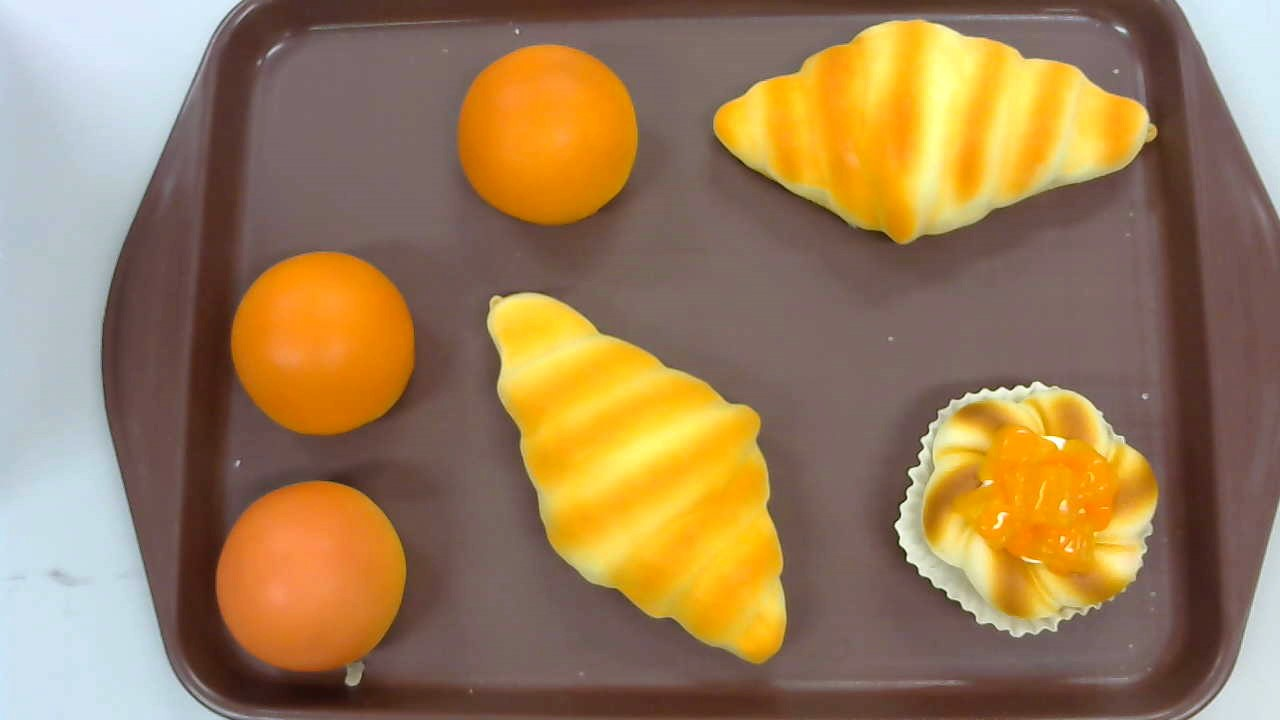bun: (216, 479, 407, 671), (230, 251, 416, 437), (456, 43, 638, 227)
croissant: (486, 291, 790, 666), (712, 17, 1158, 248)
mango tart: (894, 378, 1159, 640)
